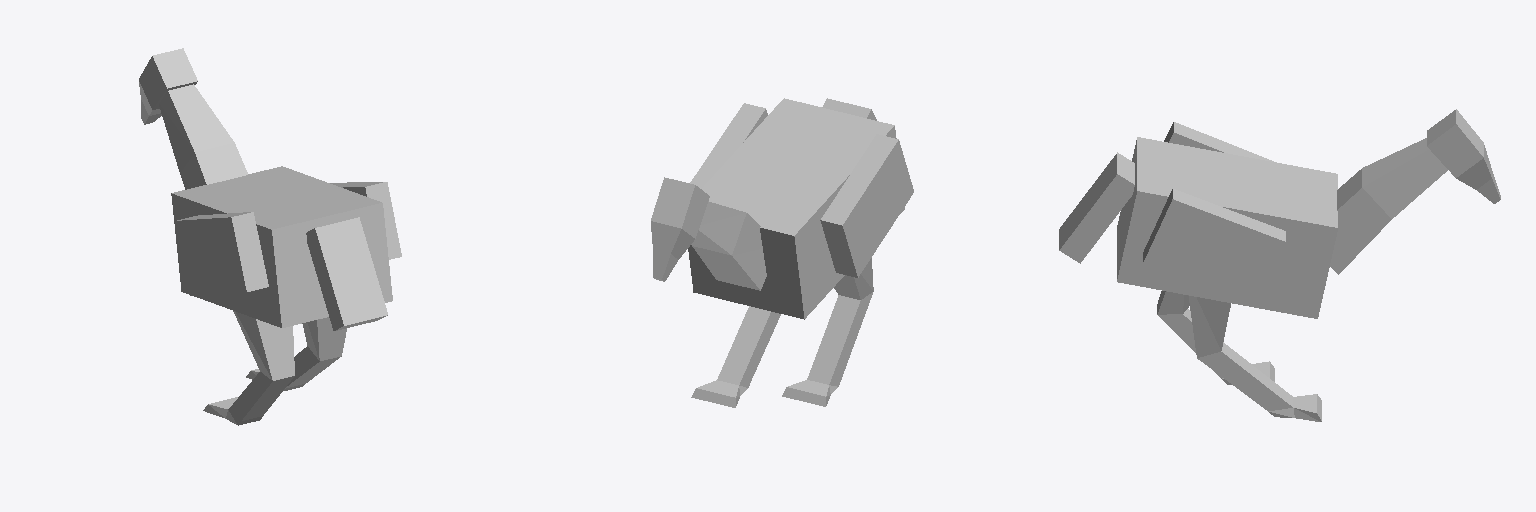
File: Ostrich_000167.obj
3 views of the same model, side by side, from view 1: azimuth 30°, elevation 25°; view 2: azimuth 150°, elevation 25°; view 3: azimuth 270°, elevation 25° (orthographic).
Visible parts, largest first — view 1: Cube_Cube.001; view 2: Cube_Cube.001; view 3: Cube_Cube.001.
Part boxes in pixels (x1,y1,x2,y2): Cube_Cube.001: (139, 48, 401, 425); Cube_Cube.001: (651, 98, 913, 407); Cube_Cube.001: (1059, 109, 1500, 421).
Size of the model in its own units: 0.7 by 1.2 by 1.72.